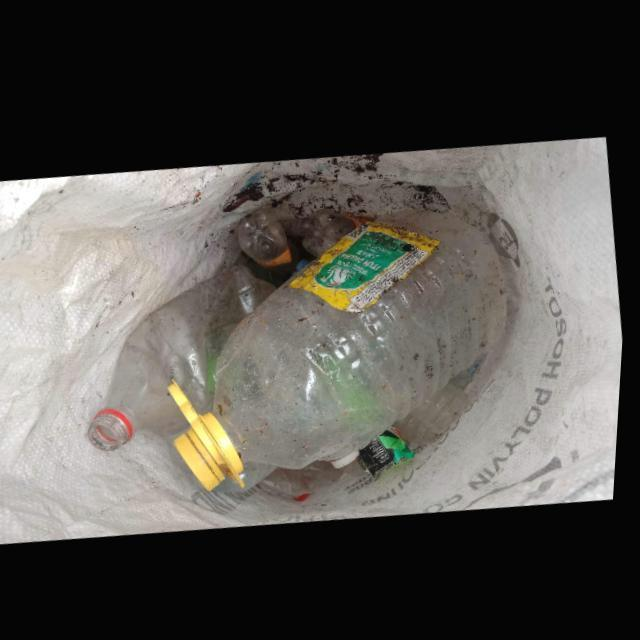plastic_bottle: (172, 205, 510, 487), (93, 260, 280, 450), (304, 204, 370, 253), (238, 209, 295, 264), (416, 377, 472, 428)
